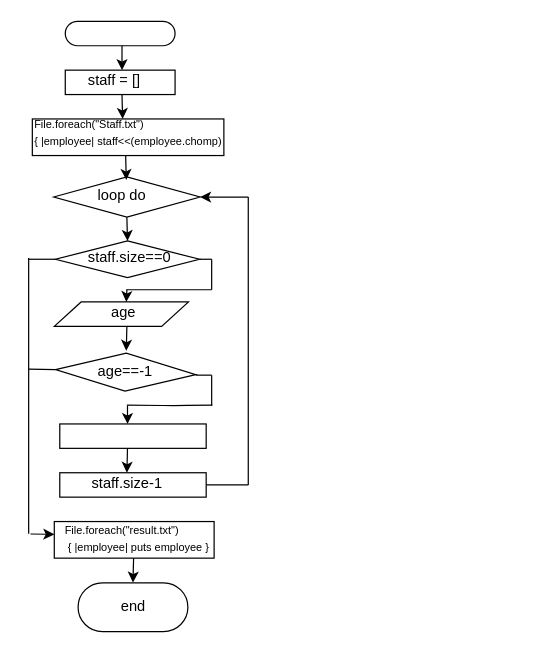
Some shapes in this 547 by 664 pixel diagram are drawn without their labels. The shapes that lost their labels are listed below. From the top down, each one's centre as x and y in pixels, then its label:
(119,33): begin
(132,435): File.write("result.txt")
